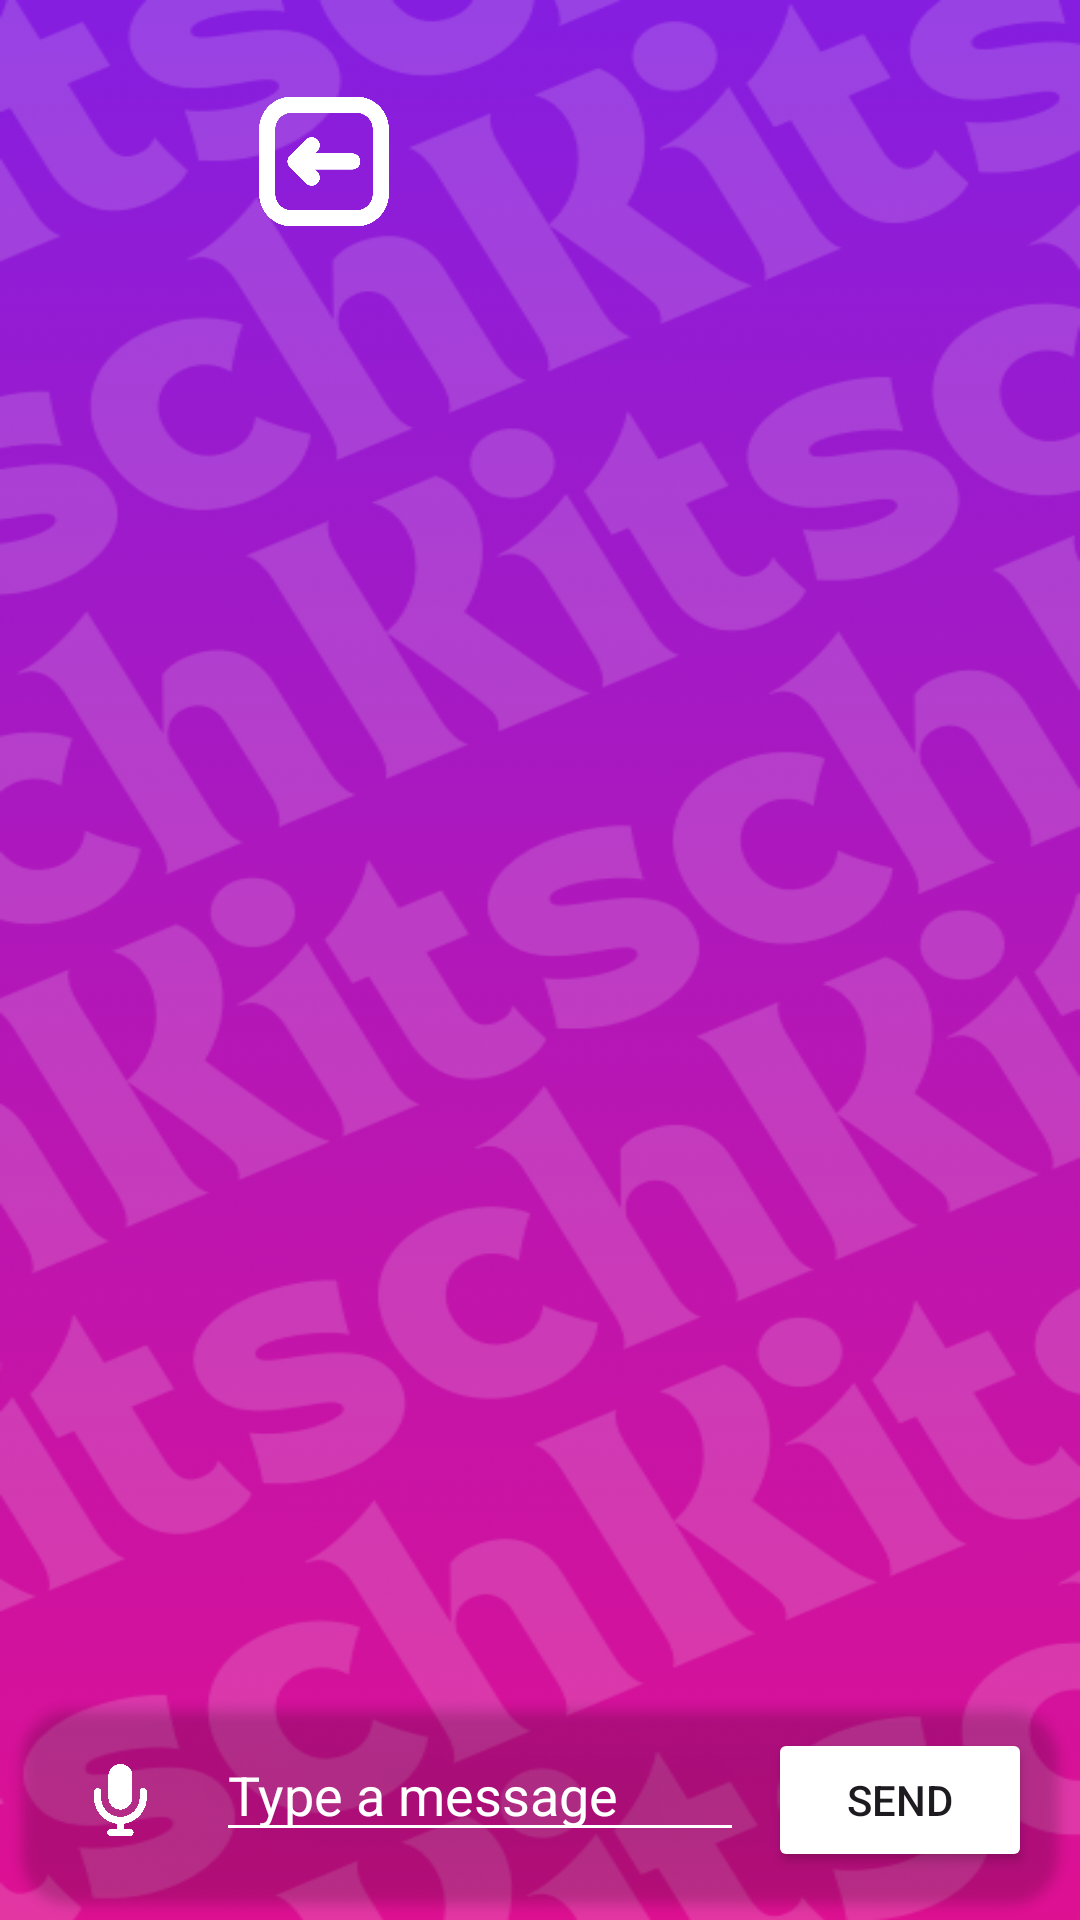

Screen size 1080w x 1920h. Icon name, then its center in pixels as [x,y]:
Record audio: [120,1800]
